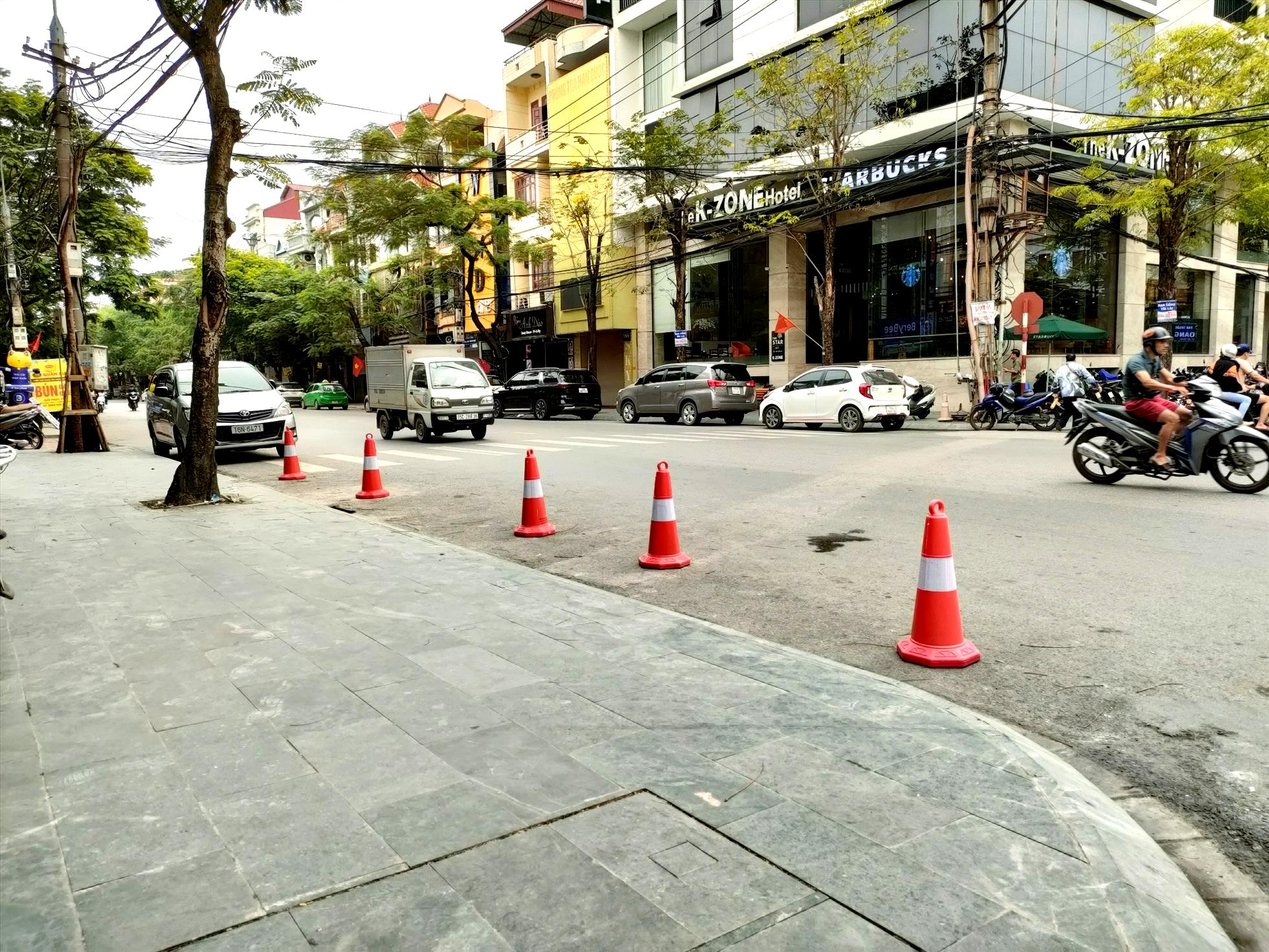ROAD_OBSTACLE: (324, 419, 895, 819)
